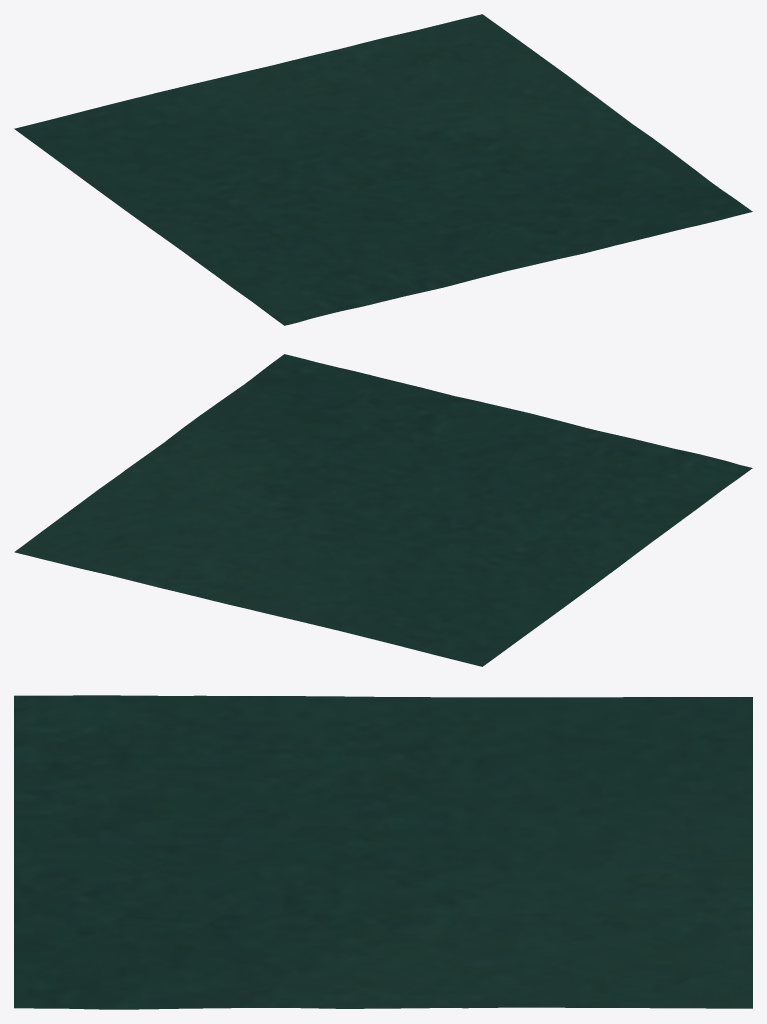
3 views of the same model, one above another, from view 1: azimuth 30°, elevation 25°; view 2: azimuth 150°, elevation 25°; view 3: azimuth 270°, elevation 25° (orthographic). The views are drawn at different scales.
Size of the model in its own units: 52.22 by 0.2471 by 52.22.
3 materials, 3 textured.
